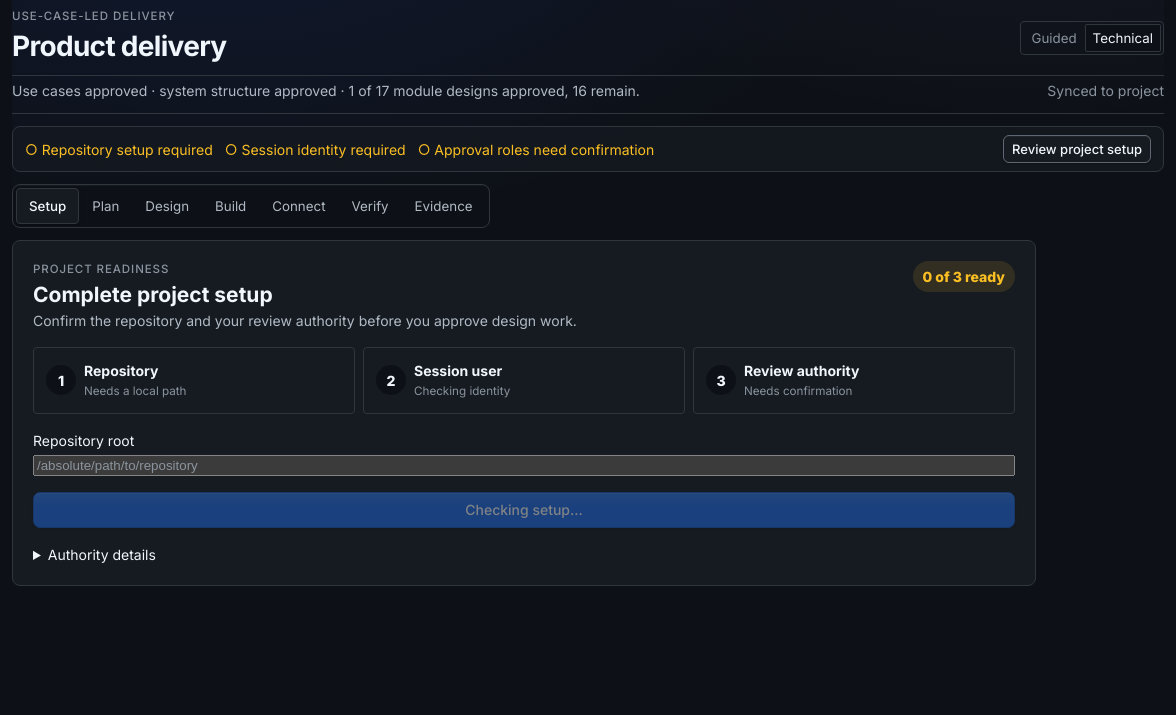
Scenario: project-mode Verify (§14.4, §17.1) — renders getScenarioCoverage / getVerificationEvidence verbatim › renders the returned summary counts, first failed step, and design links, then evidence for that first failed step
Click the tab "Verify": click(370, 206) [338,188,402,224]
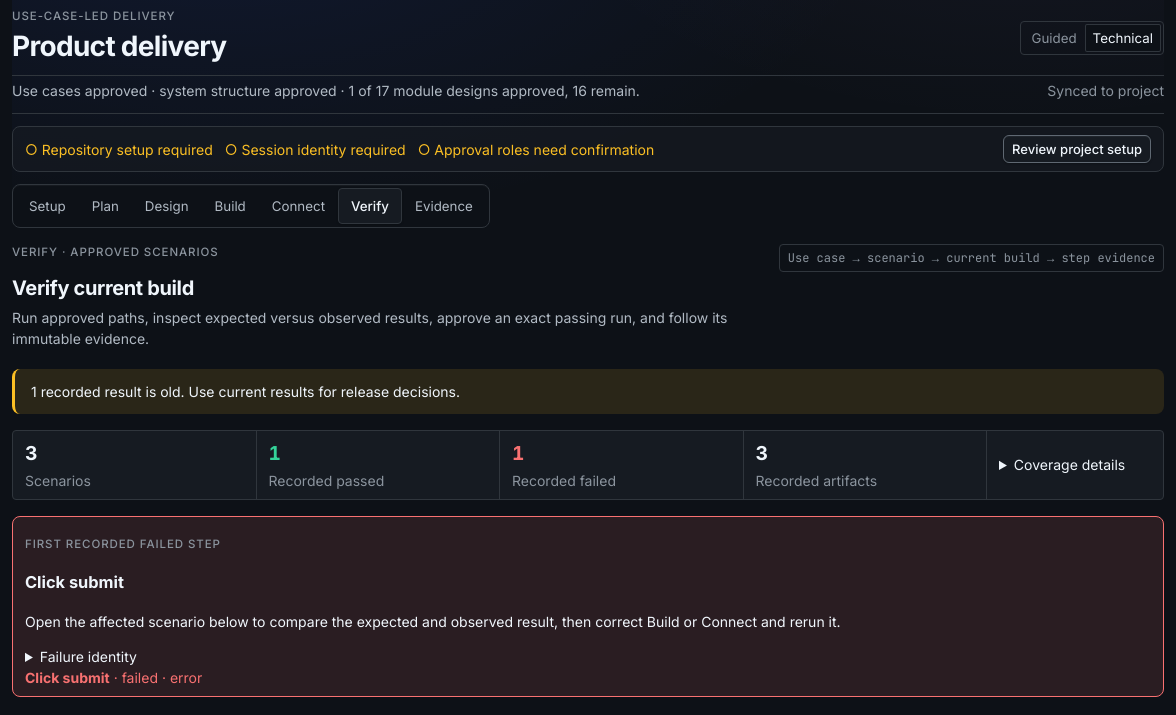
Expected: the text "First recorded failed step" is shown, [25,537,221,551]
Expected: the heading "Click submit" is shown, [25,572,124,592]
Expected: the list named "Failed run evidence" shows "error", [170,669,202,686]
